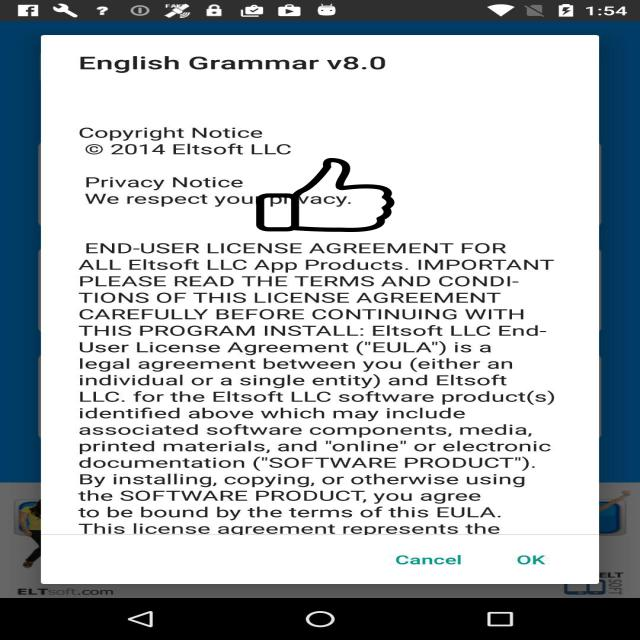privacy zuckering: (254, 158, 396, 232)
